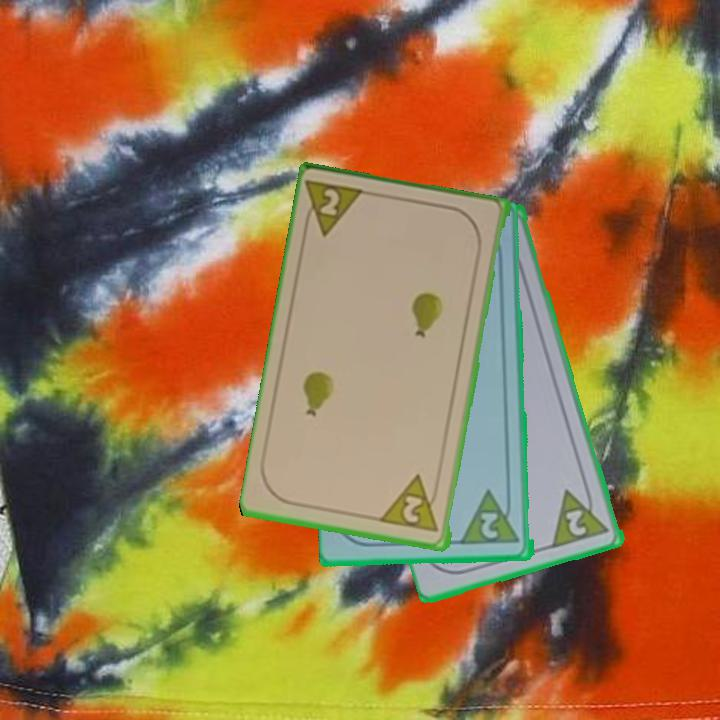2p: (549, 480, 613, 552), (300, 177, 371, 241), (379, 472, 442, 536), (460, 487, 523, 548)
